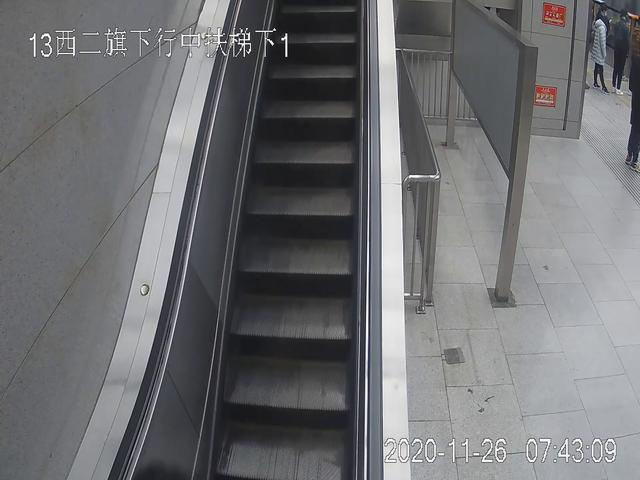person: (592, 15, 619, 94), (613, 11, 634, 91)
